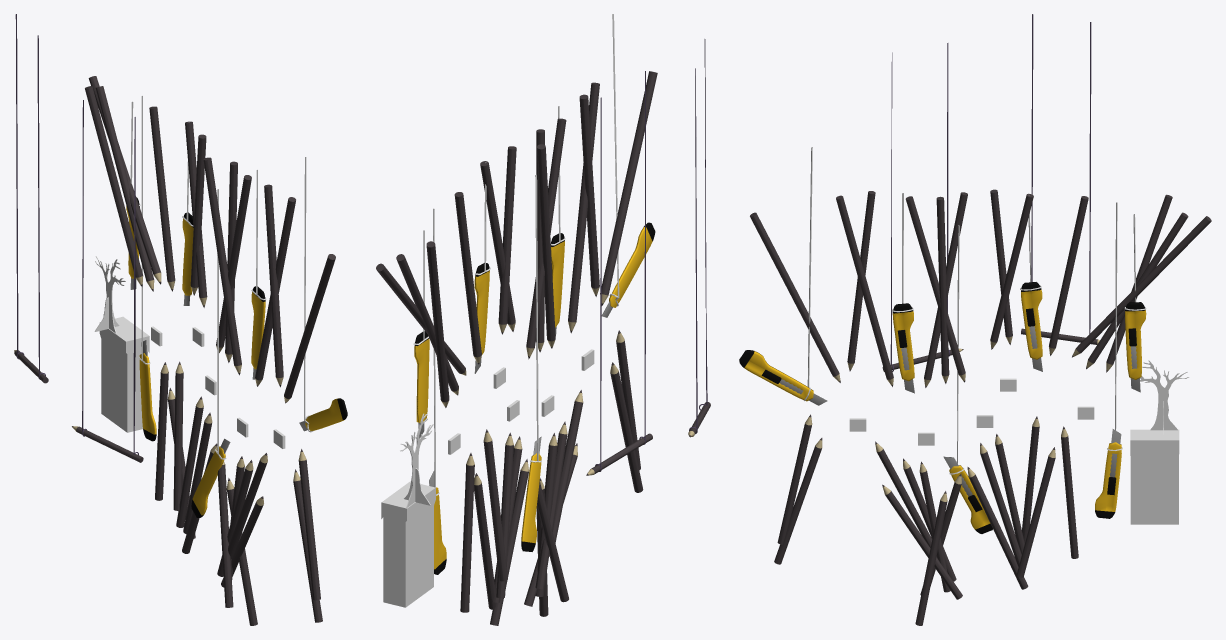
The model's file is Pantalla 23DEF.fbx.
The picture shows the model from 3 angles, left to right: view 1: azimuth 30°, elevation 25°; view 2: azimuth 150°, elevation 25°; view 3: azimuth 270°, elevation 25°; orthographic projection. The views are drawn at different scales.
Parts seen in each view (by area): view 1: Cube.059, Cylinder.154, Cylinder.145, Cylinder.153, Cylinder.143, Cylinder.152, Cylinder.150, Cylinder.155, Cylinder.144, Cylinder.142, Cylinder.128, Cylinder.147 (+23 smaller); view 2: Cube.059, Cylinder.142, Cylinder.144, Cylinder.145, Cylinder.143, Cylinder.155, Cylinder.147, Cylinder.149, Cylinder.150, Cylinder.153, Cylinder.141, Cylinder.139 (+28 smaller); view 3: Cube.059, Cylinder.144, Cylinder.142, Cylinder.151, Cylinder.146, Cylinder.147, Cylinder.155, Cylinder.145, Cylinder.143, Cylinder.150, Cylinder.148, Cube.043 (+25 smaller).
Boxes of the visible parts, x1,y1,x2,y2 form: Cube.059: (101, 340, 147, 432); Cylinder.154: (72, 100, 143, 462); Cylinder.145: (203, 157, 241, 375); Cylinder.153: (85, 86, 143, 286); Cylinder.143: (264, 184, 283, 387); Cylinder.152: (95, 86, 154, 291); Cylinder.150: (149, 106, 175, 291); Cylinder.155: (14, 14, 48, 383); Cylinder.144: (255, 197, 295, 386); Cylinder.142: (284, 254, 335, 403); Cylinder.128: (298, 449, 320, 600); Cylinder.147: (216, 175, 251, 352); Cube.059: (383, 506, 433, 607); Cylinder.142: (600, 71, 657, 305); Cylinder.144: (568, 82, 599, 333); Cylinder.145: (537, 144, 555, 348); Cylinder.143: (579, 94, 599, 296); Cylinder.155: (586, 71, 652, 475); Cylinder.147: (526, 118, 566, 359); Cylinder.149: (498, 146, 516, 334); Cylinder.150: (454, 192, 481, 364); Cylinder.153: (426, 241, 449, 407); Cylinder.141: (460, 453, 474, 612); Cylinder.139: (483, 429, 507, 581); Cube.059: (1130, 448, 1178, 524); Cylinder.144: (836, 195, 893, 386); Cylinder.142: (750, 212, 840, 382); Cylinder.151: (1072, 216, 1211, 357); Cylinder.146: (936, 196, 949, 383); Cylinder.147: (905, 196, 965, 382); Cylinder.155: (1021, 14, 1099, 344); Cylinder.145: (924, 192, 967, 387); Cylinder.143: (847, 191, 875, 371); Cylinder.150: (1049, 196, 1088, 355); Cylinder.148: (990, 193, 1033, 349); Cube.043: (849, 378, 1094, 445).
Bounding box in the file's own units: 2869 × 9520 × 7534.
